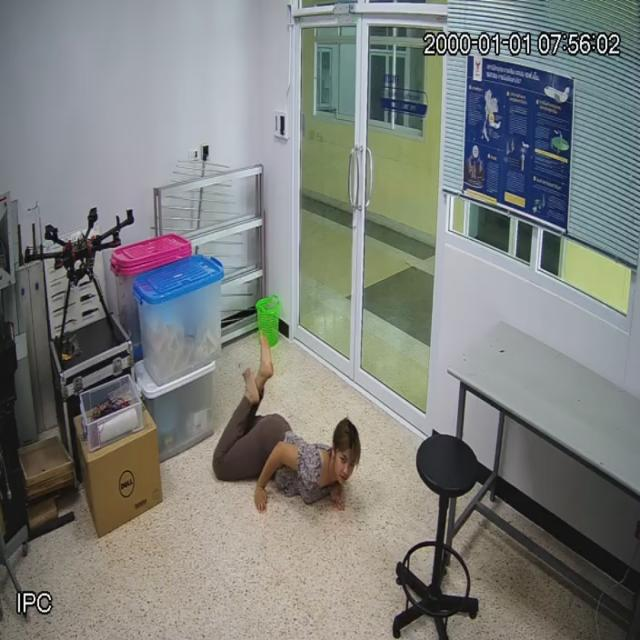fall: (215, 363, 363, 515)
